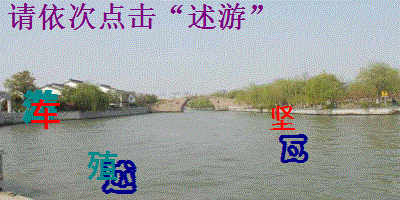result: (185, 2, 246, 32)
text: (99, 159, 140, 195), (21, 89, 59, 125), (84, 148, 119, 182), (29, 98, 63, 131), (277, 132, 309, 165), (268, 104, 297, 134)
